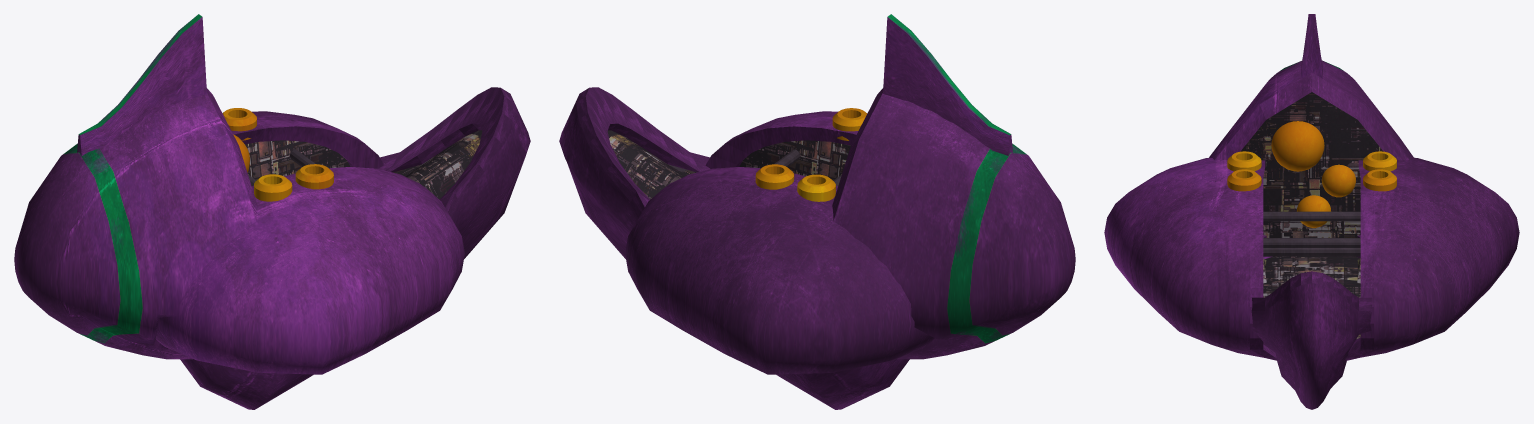
Rendered from Ship2.fbx.
The picture shows the model from 3 angles, left to right: view 1: azimuth 30°, elevation 25°; view 2: azimuth 150°, elevation 25°; view 3: azimuth 270°, elevation 25°; orthographic projection. The views are drawn at different scales.
Visible parts, largest first — view 1: polySurface1; view 2: polySurface1; view 3: polySurface1.
Part boxes in pixels (x1=…): polySurface1: x1=14, y1=14, x2=530, y2=409; polySurface1: x1=559, y1=14, x2=1075, y2=409; polySurface1: x1=1104, y1=14, x2=1519, y2=409.
Bounding box in the file's own units: 32.52 × 24.87 × 26.15.
1 material, 1 textured.
